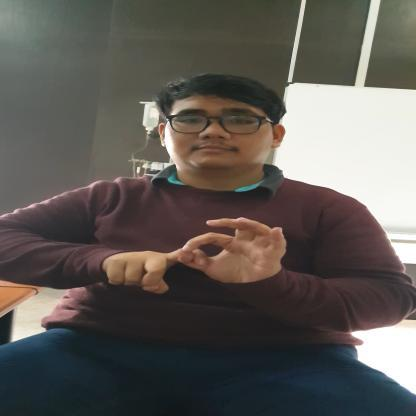Q: (102, 216, 288, 298)
